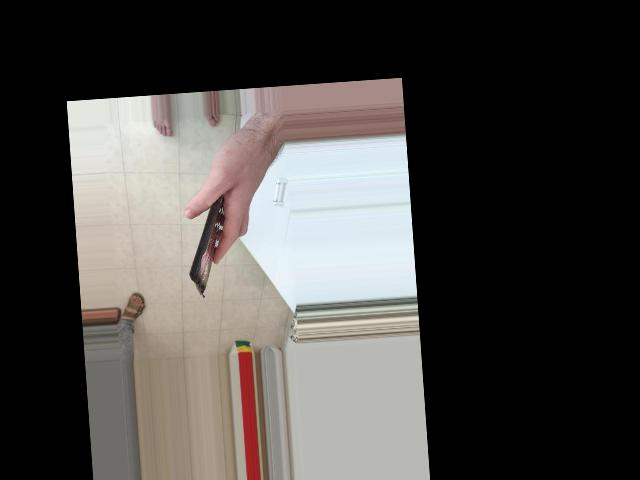chocolate: (176, 183, 241, 297)
